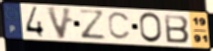4: (23, 5, 47, 39)
B: (163, 13, 191, 44)
C: (107, 11, 132, 42)
O: (138, 11, 164, 44)
V: (45, 5, 74, 41)
Z: (77, 8, 109, 41)
